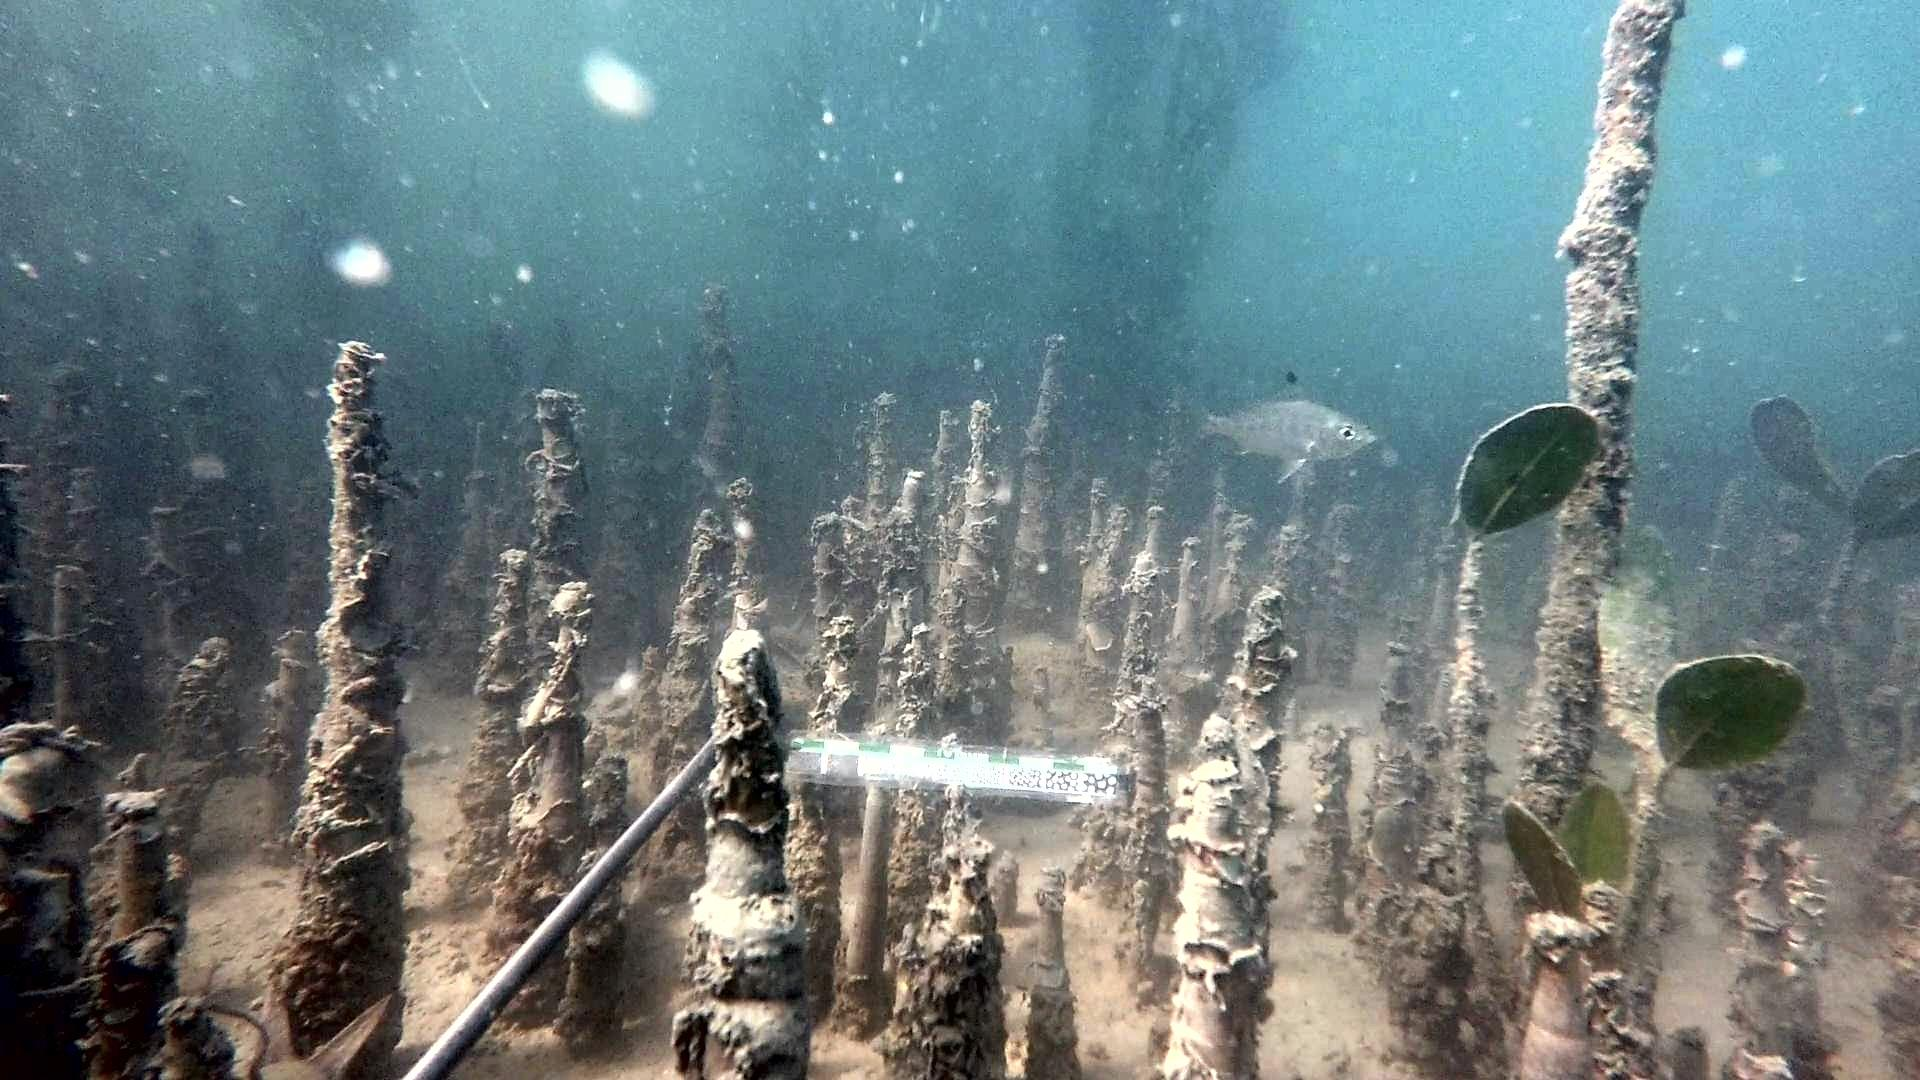gerres: (1162, 369, 1379, 484)
